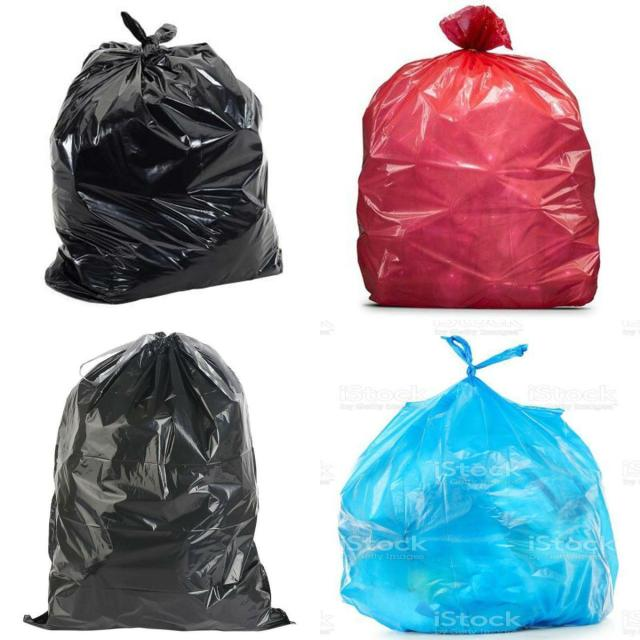Single-layer Plastic: (339, 336, 618, 634), (25, 332, 290, 630), (358, 6, 600, 309), (45, 12, 282, 303)
